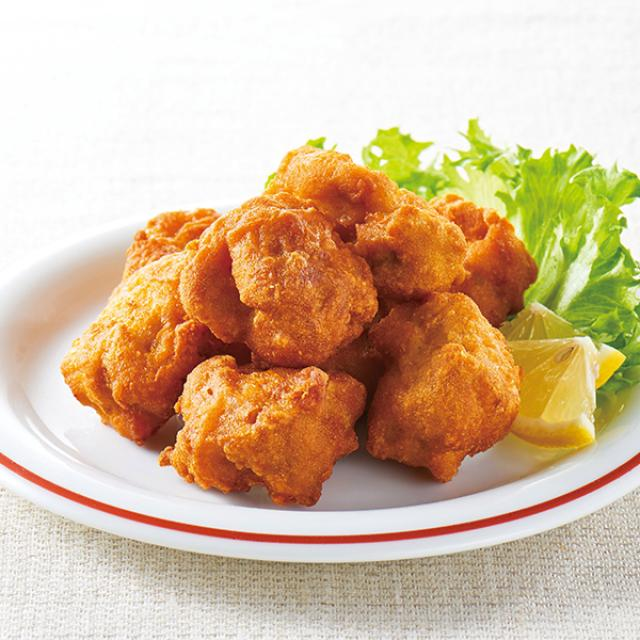Frango: (62, 138, 540, 508)
